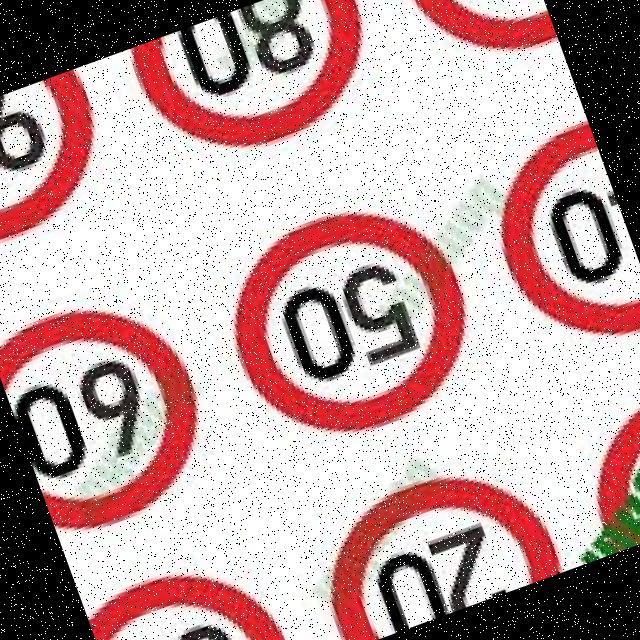speed_limit_20: (296, 444, 566, 640)
speed_limit_30: (81, 536, 302, 640)
speed_limit_50: (189, 152, 513, 478)
speed_limit_60: (0, 274, 243, 556)
speed_limit_70: (387, 0, 561, 92)
speed_limit_80: (117, 0, 409, 194)
